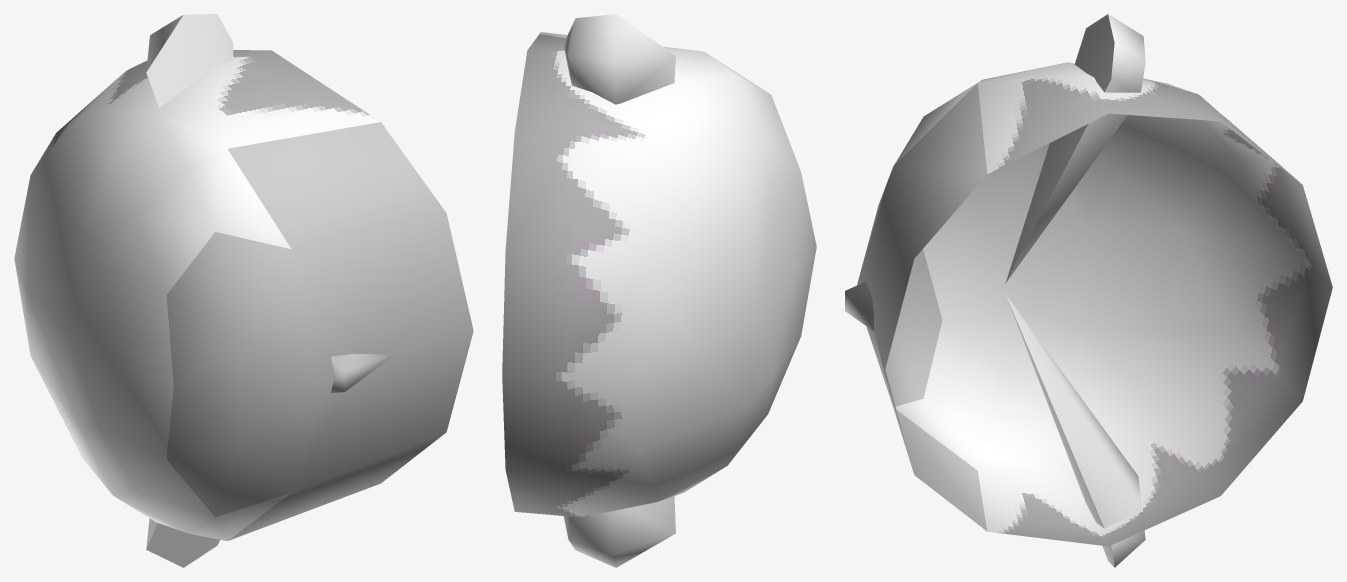
The model's file is boy08b.dae.
The picture shows the model from 3 angles, left to right: view 1: azimuth 30°, elevation 25°; view 2: azimuth 150°, elevation 25°; view 3: azimuth 270°, elevation 25°; orthographic projection.
Visible parts, largest first — view 1: vsn_mesh_0_, vsn_mesh_1_, vsn_mesh_2_; view 2: vsn_mesh_0_; view 3: vsn_mesh_0_, vsn_mesh_1_, vsn_mesh_2_.
Part boxes in pixels (x1=…): vsn_mesh_0_: x1=14, y1=14, x2=380, y2=567; vsn_mesh_1_: x1=227, y1=122, x2=473, y2=540; vsn_mesh_2_: x1=166, y1=232, x2=321, y2=517; vsn_mesh_0_: x1=502, y1=14, x2=816, y2=567; vsn_mesh_0_: x1=894, y1=14, x2=1332, y2=567; vsn_mesh_1_: x1=845, y1=83, x2=987, y2=531; vsn_mesh_2_: x1=857, y1=169, x2=942, y2=406.
Size of the model in its own units: 15.5 by 26.71 by 21.59.
